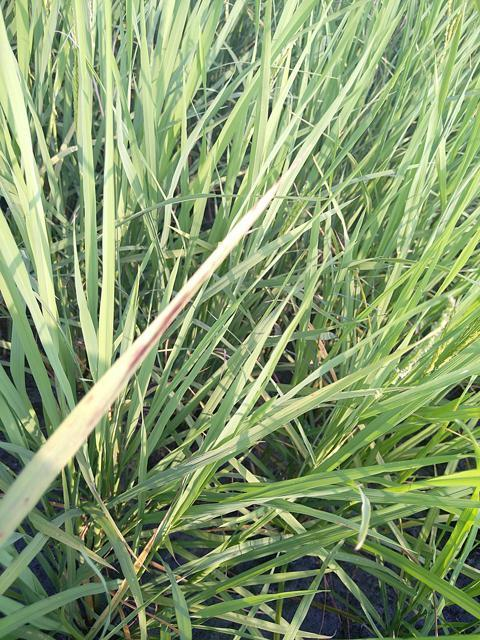Leaf Blight: (0, 192, 271, 512)
